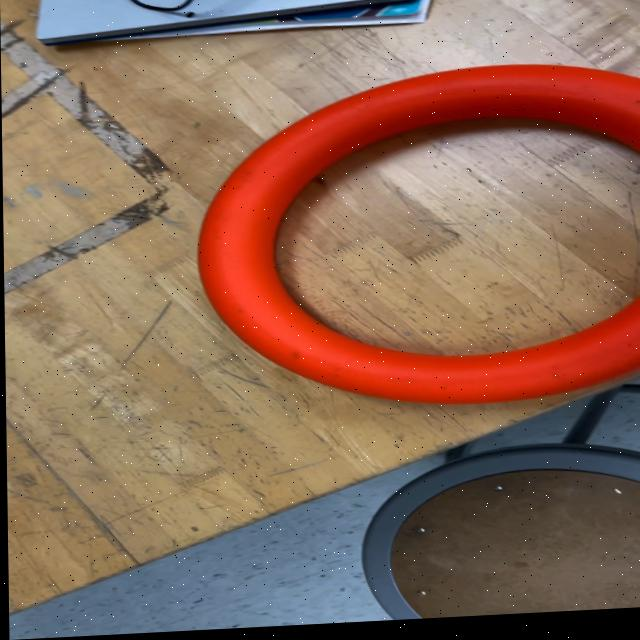note: (191, 63, 640, 422)
